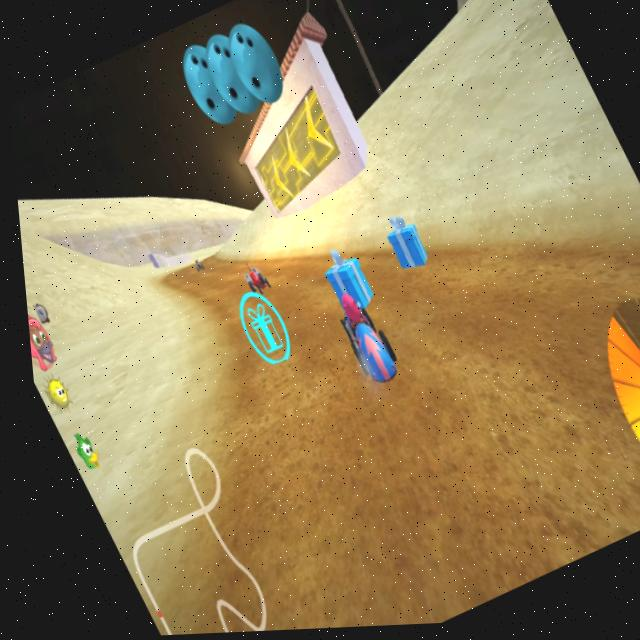bonus: (210, 281, 303, 393), (306, 245, 379, 324), (372, 212, 433, 282)
enemy_kart: (234, 263, 267, 297), (183, 252, 202, 276)
